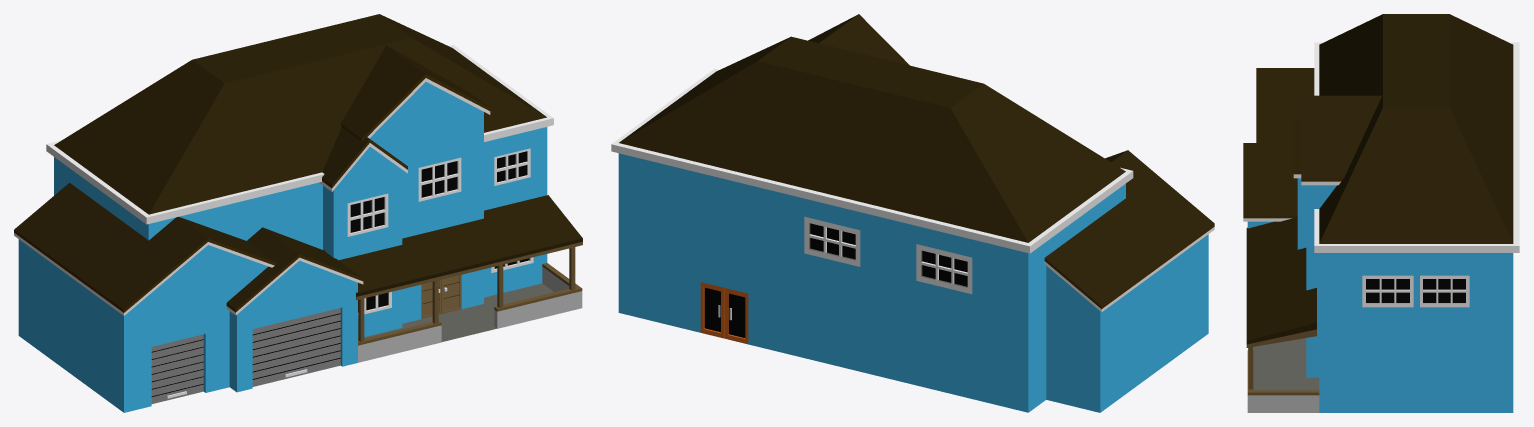
Rendered from House-01-c.fbx.
3 views of the same model, side by side, from view 1: azimuth 30°, elevation 25°; view 2: azimuth 150°, elevation 25°; view 3: azimuth 270°, elevation 25° (orthographic). The views are drawn at different scales.
Parts seen in each view (by area): view 1: Cube; view 2: Cube; view 3: Cube.
Part boxes in pixels (x1=…): Cube: x1=14, y1=14, x2=582, y2=412; Cube: x1=611, y1=14, x2=1214, y2=412; Cube: x1=1243, y1=14, x2=1519, y2=412.
Size of what is drawn, in the model's own units: 21.98 by 11.34 by 11.22.
